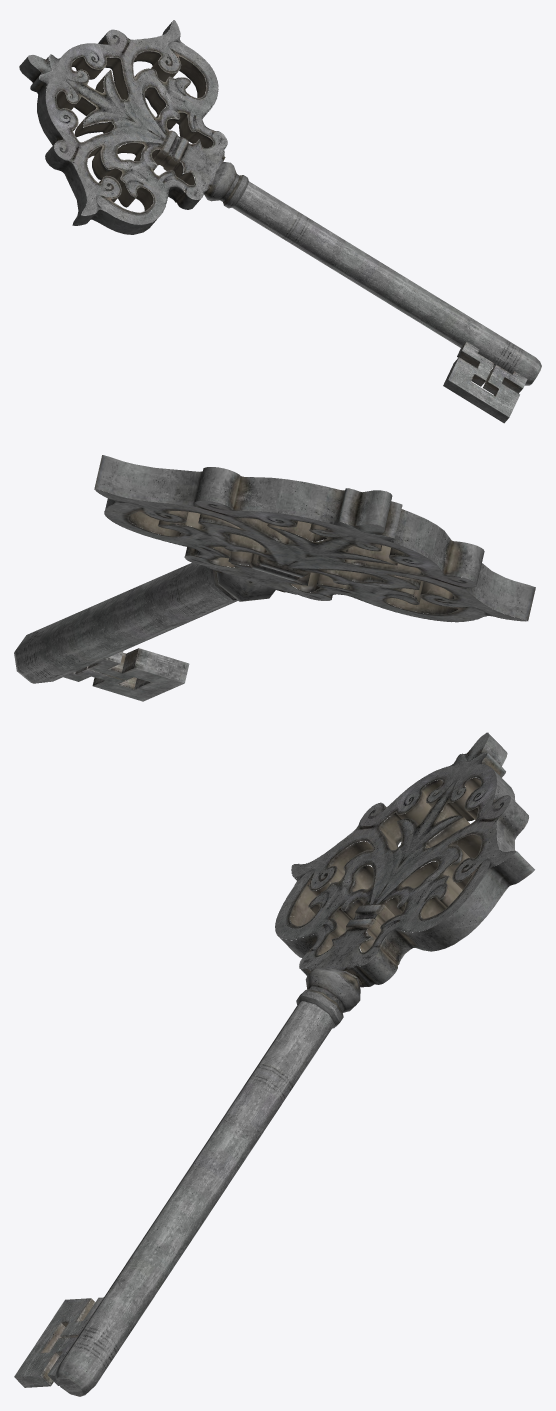
Rendered from old_key_c.glb.
3 renders of one model, top to bottom at view 1: azimuth 30°, elevation 25°; view 2: azimuth 150°, elevation 25°; view 3: azimuth 270°, elevation 25°, orthographic. The views are drawn at different scales.
Parts seen in each view (by area): view 1: Key; view 2: Key; view 3: Key.
Part boxes in pixels (box(x1,y1,x2,y2)): Key: box(19, 20, 541, 423); Key: box(14, 455, 535, 701); Key: box(14, 732, 534, 1396).
Bounding box in the file's own units: 0.1478 × 0.1181 × 0.125.
Materials: 1 (1 with a texture image).
